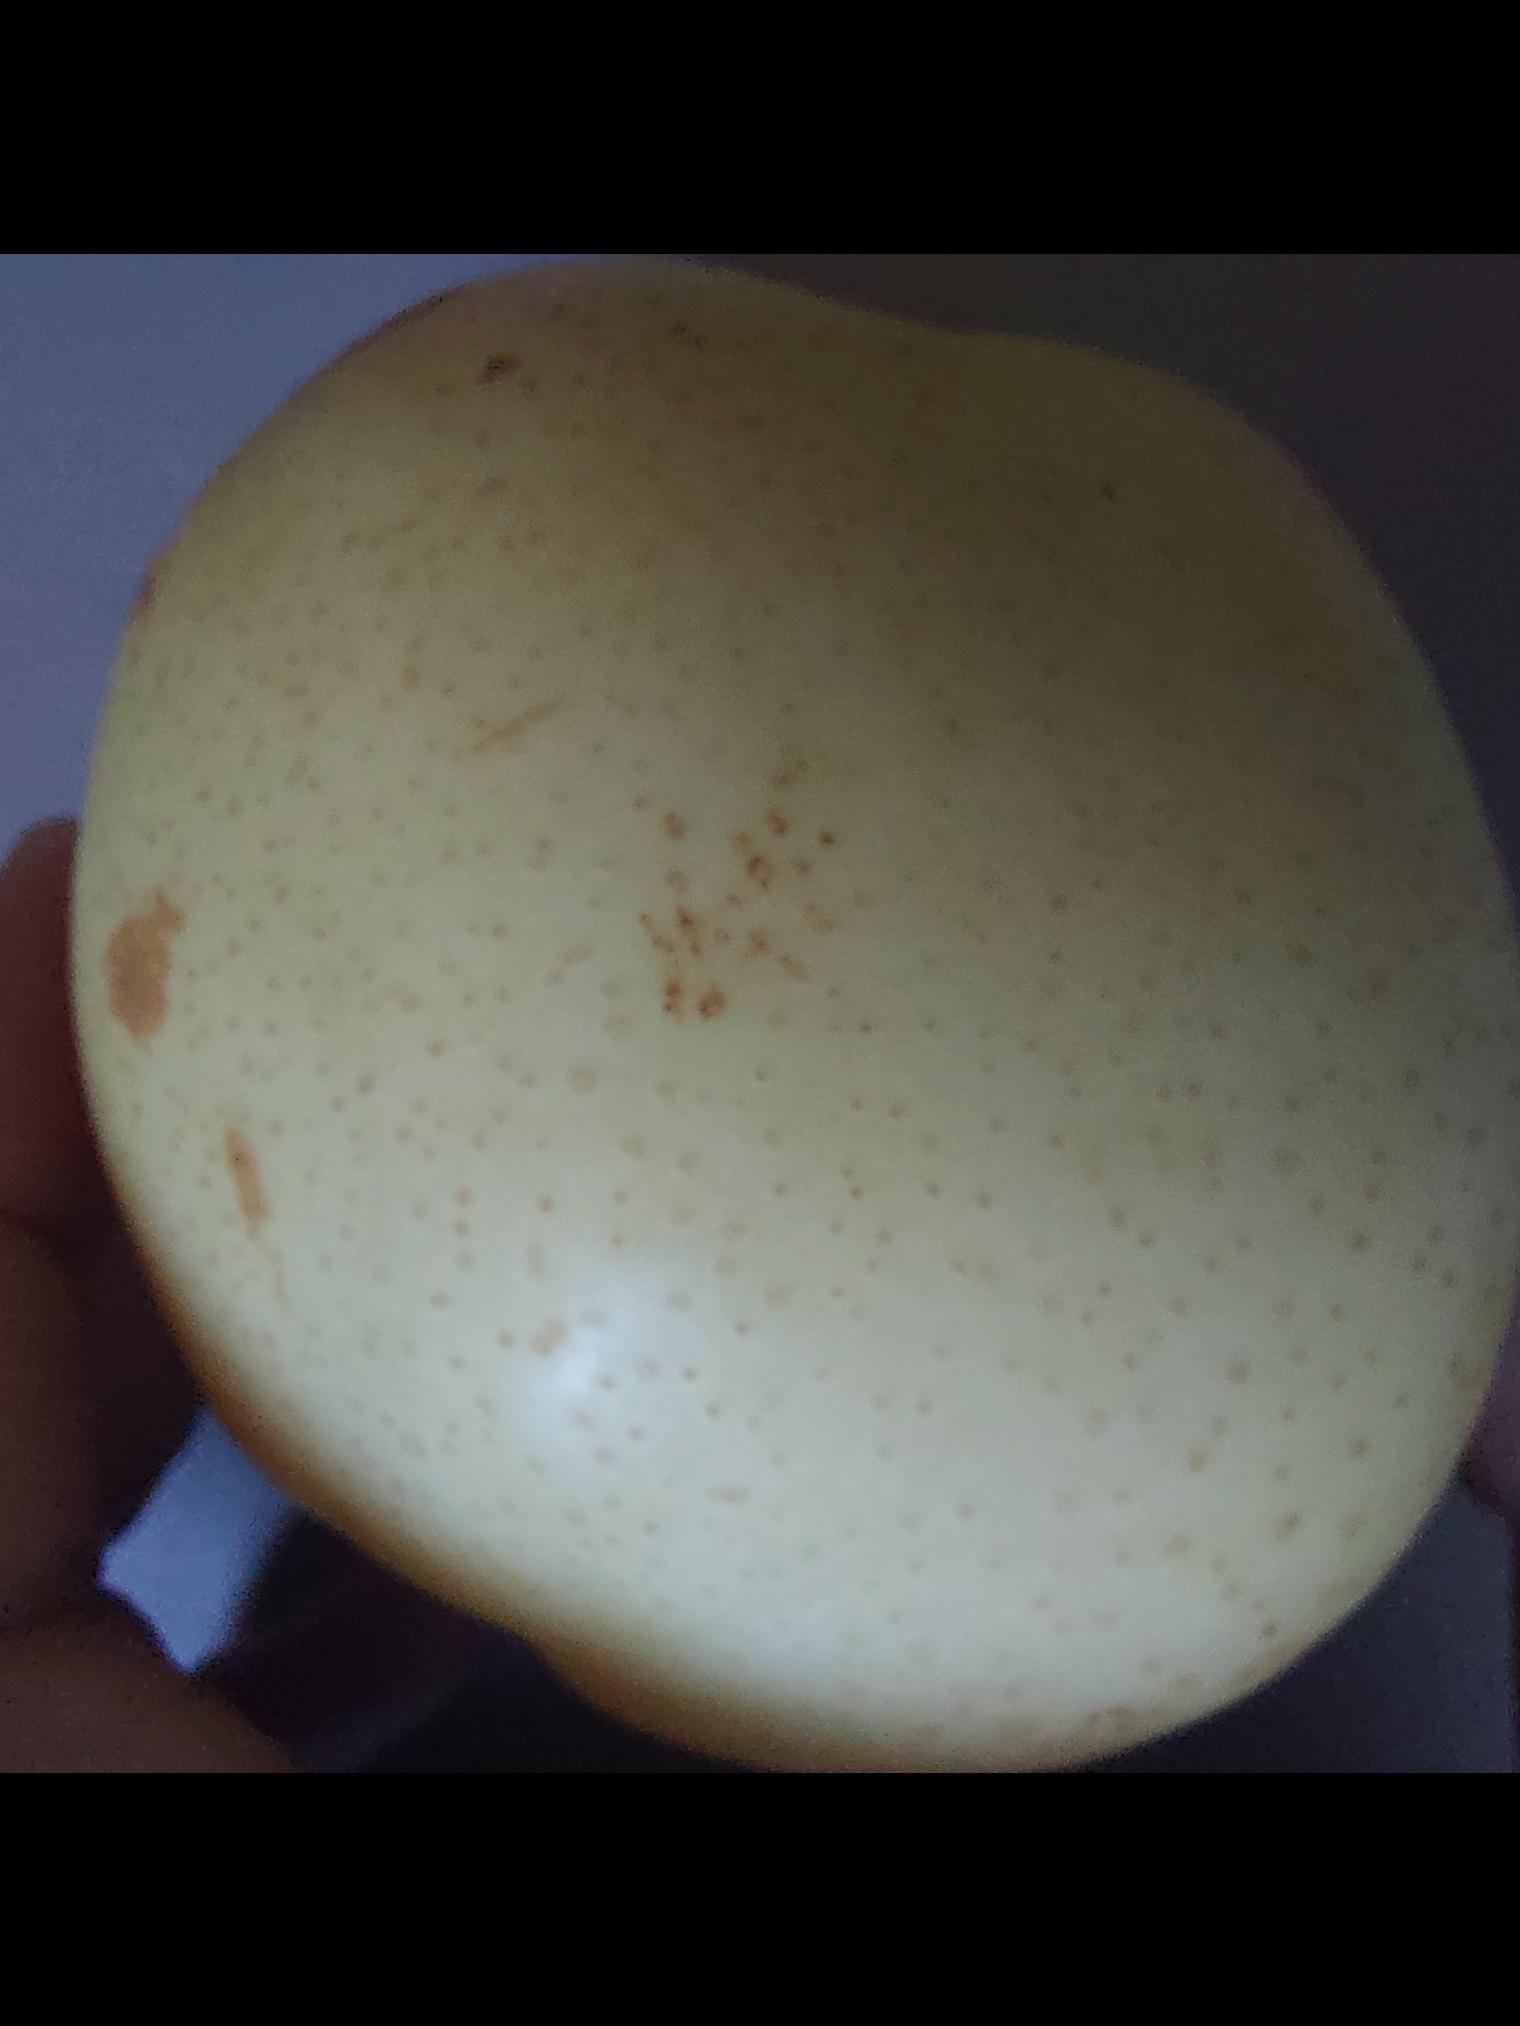Good Pear: (54, 275, 1520, 1774)
